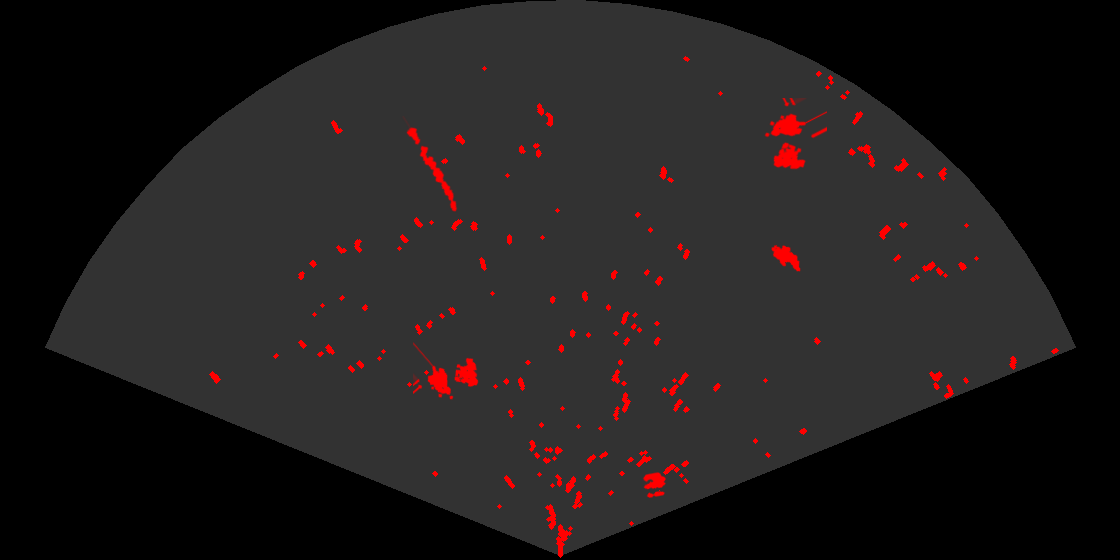AUV: (770, 243, 802, 273)
ball: (641, 471, 667, 499)
cage: (763, 98, 827, 171), (413, 341, 480, 401)
chain: (401, 116, 459, 213)
